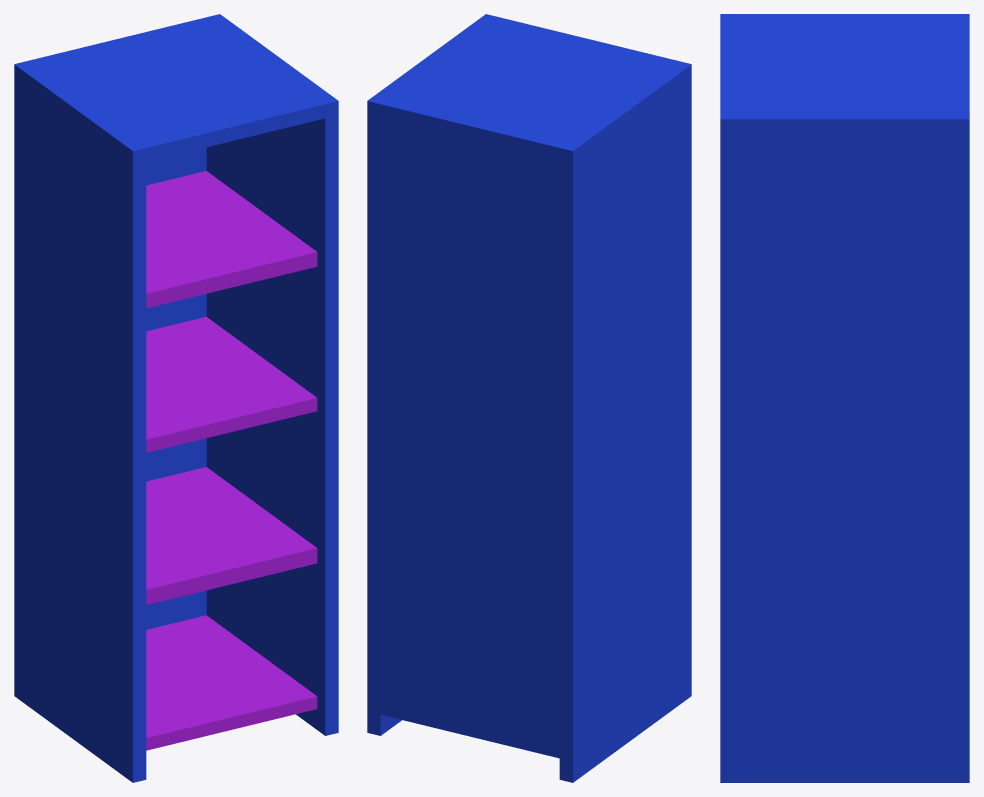
The model's file is Tall Open Cabinet.fbx.
3 renders of one model, left to right at view 1: azimuth 30°, elevation 25°; view 2: azimuth 150°, elevation 25°; view 3: azimuth 270°, elevation 25°, orthographic. The views are drawn at different scales.
Parts seen in each view (by area): view 1: Tall Open Cabinet; view 2: Tall Open Cabinet; view 3: Tall Open Cabinet.
Part boxes in pixels (x1,y1,x2,y2): Tall Open Cabinet: (14, 14, 338, 782); Tall Open Cabinet: (367, 14, 691, 782); Tall Open Cabinet: (720, 14, 969, 782).
Bounding box in the file's own units: 75 × 220 × 75.
